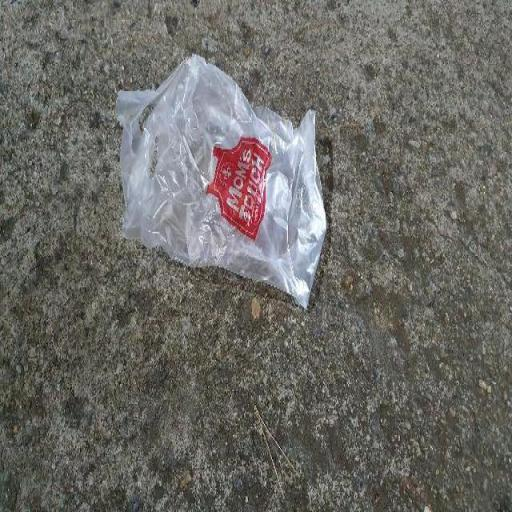plastic-bag: (114, 52, 329, 314)
